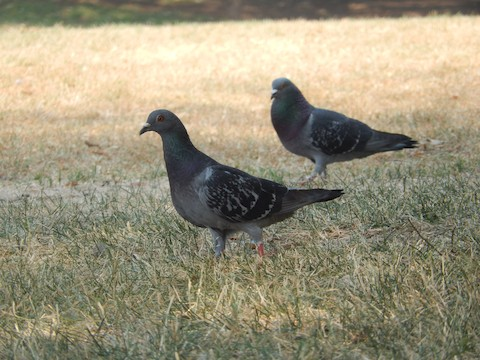pigeon: (139, 107, 347, 262), (268, 74, 424, 182)
